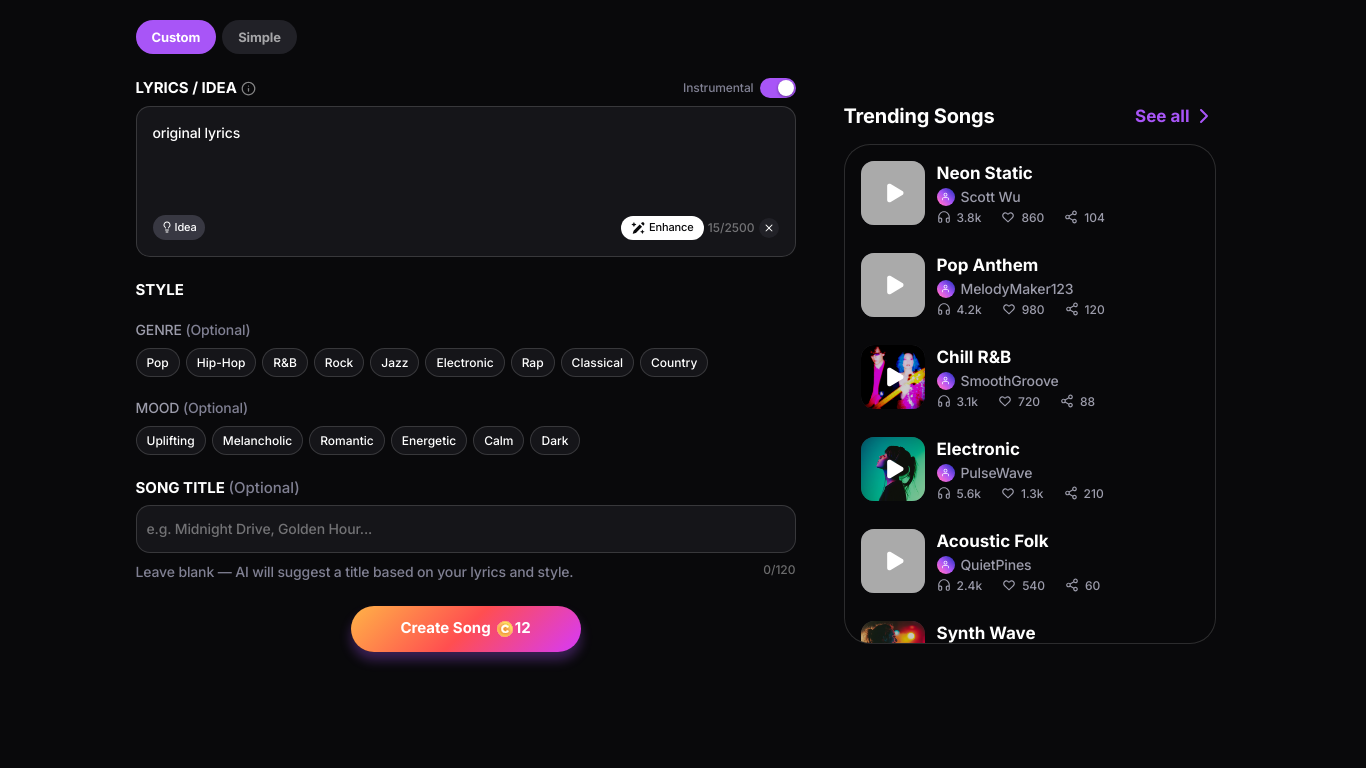
Test: Song Enhance error presentation › keeps custom input on an unsupported-language error (instrumental true, direction null)
Click the button "Enhance": (662, 228) [621, 216, 704, 240]
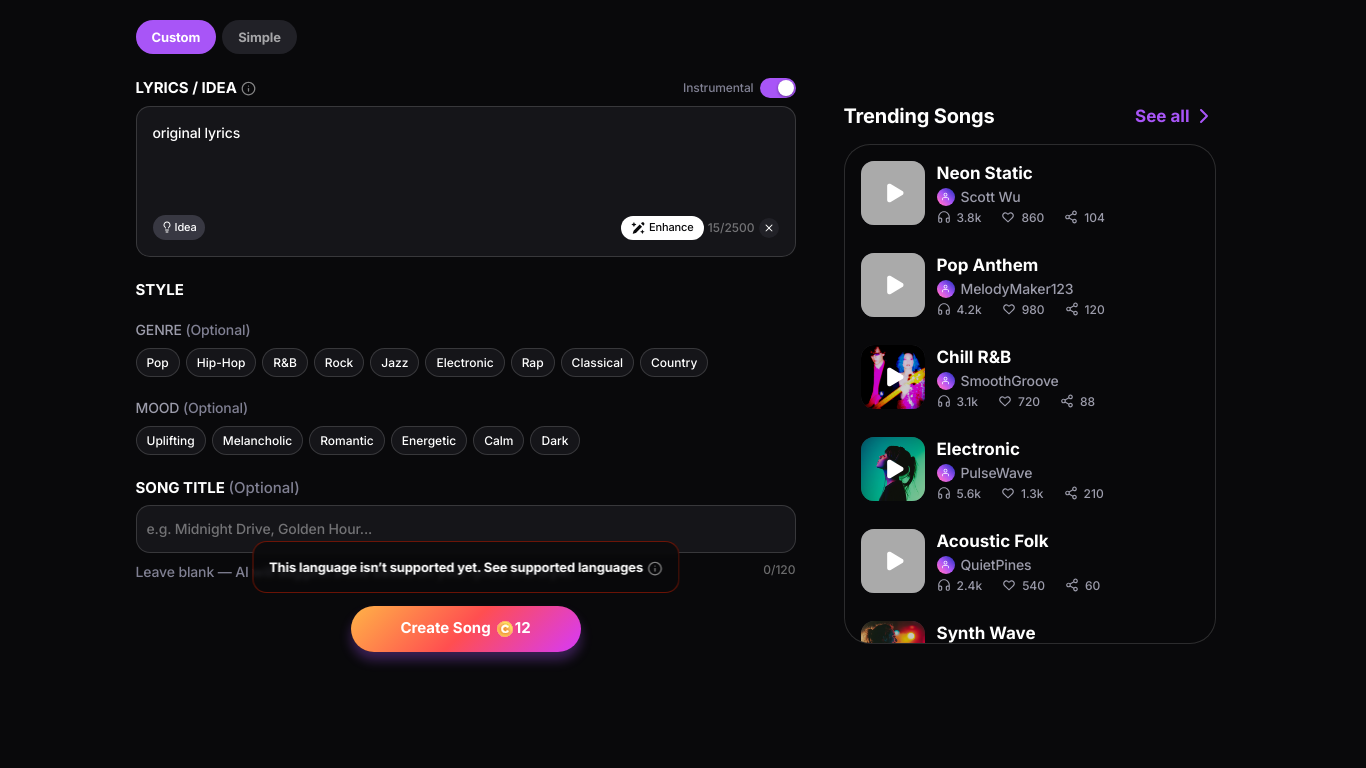
Expected: the message shows "This language isn’t supported yet.", [269, 559, 481, 575]
Click the button named "Supported languages" next to "languages": (654, 568) [647, 561, 662, 576]
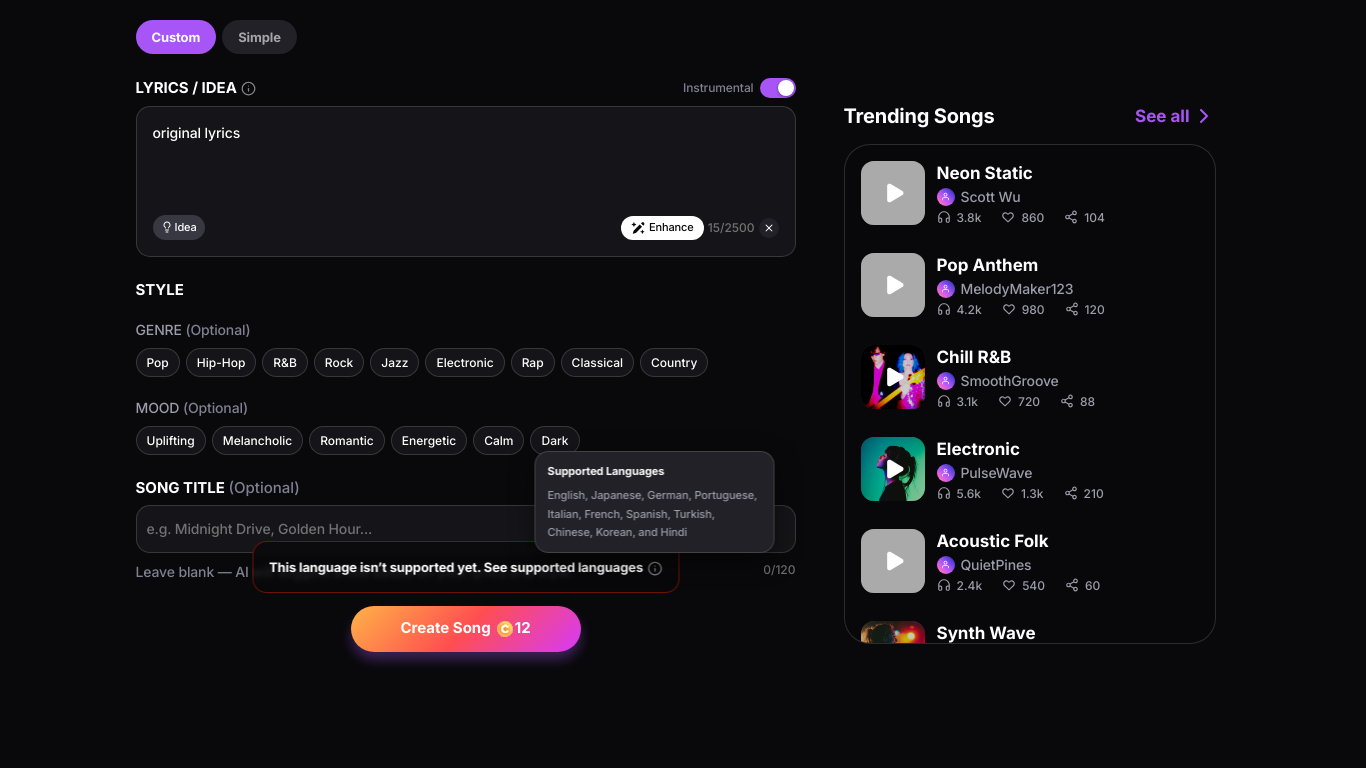
Expected: the text box holds "original lyrics", [152, 123, 778, 207]
Expected: the tooltip shows "English, Japanese, German, Portuguese, Italian, French, Spanish, Turkish, Chinese, Korean, and Hindi", [548, 488, 757, 539]
